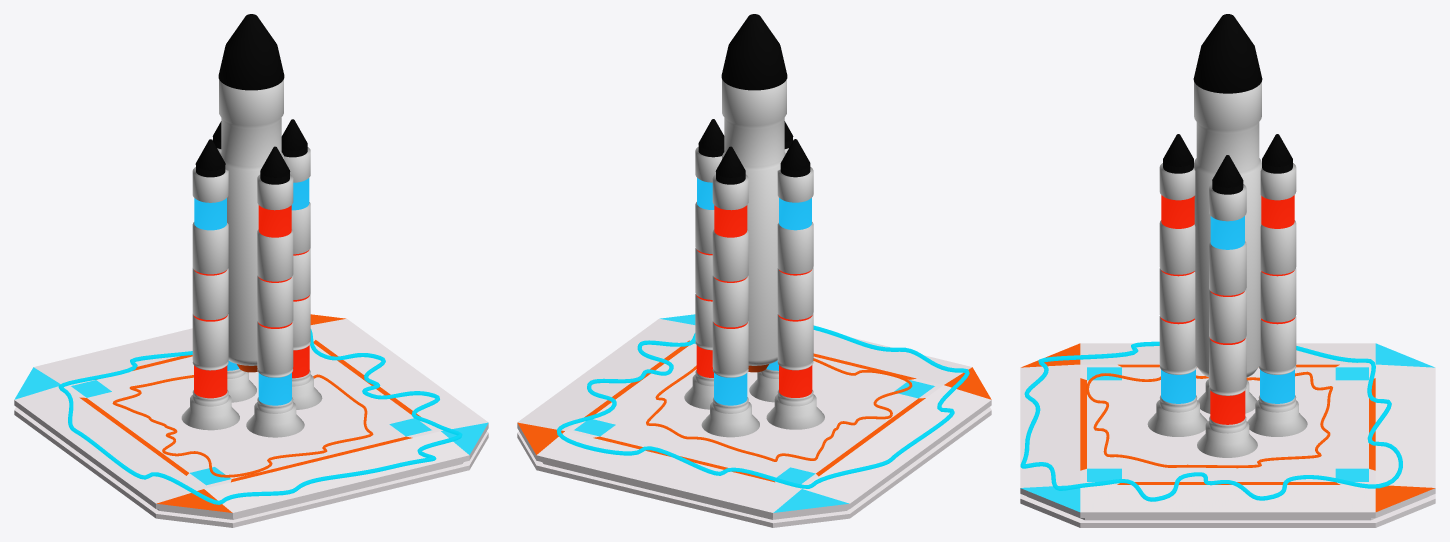
The model's file is scene-BMnIMXFM.glb.
3 views of the same model, side by side, from view 1: azimuth 30°, elevation 25°; view 2: azimuth 150°, elevation 25°; view 3: azimuth 270°, elevation 25° (orthographic). The views are drawn at different scales.
Visible parts, largest first — view 1: Cube001, Cylinder, BézierCurve001, Cube001_1, Cube001_2, BézierCurve002; view 2: Cube001, Cylinder, BézierCurve001, Cube001_1, Cube001_2, BézierCurve002; view 3: Cube001, Cylinder, BézierCurve001, Cube001_1, Cube001_2, BézierCurve002.
Boxes of the visible parts, left/top/right/bottom form: Cube001: left=14, top=318, right=488, bottom=527; Cylinder: left=181, top=14, right=322, bottom=437; BézierCurve001: left=58, top=329, right=462, bottom=504; Cube001_1: left=79, top=314, right=420, bottom=512; Cube001_2: left=14, top=367, right=488, bottom=485; BézierCurve002: left=112, top=374, right=373, bottom=477; Cube001: left=517, top=318, right=991, bottom=527; Cylinder: left=684, top=14, right=824, bottom=437; BézierCurve001: left=556, top=325, right=969, bottom=488; Cube001_1: left=517, top=340, right=991, bottom=482; Cube001_2: left=574, top=314, right=934, bottom=512; BézierCurve002: left=646, top=358, right=912, bottom=461; Cube001: left=1020, top=343, right=1435, bottom=527; Cylinder: left=1147, top=14, right=1307, bottom=457; BézierCurve001: left=1020, top=341, right=1402, bottom=501; Cube001_1: left=1021, top=343, right=1434, bottom=511; Cube001_2: left=1021, top=343, right=1434, bottom=511; BézierCurve002: left=1086, top=371, right=1332, bottom=468.
Bounding box in the file's own units: 7.2 × 8.56 × 7.48.
